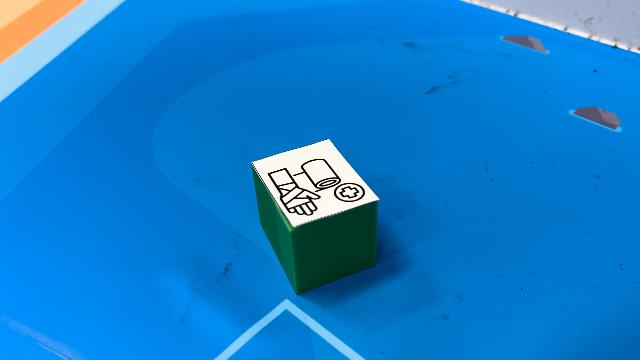bandage: (250, 138, 380, 294)
